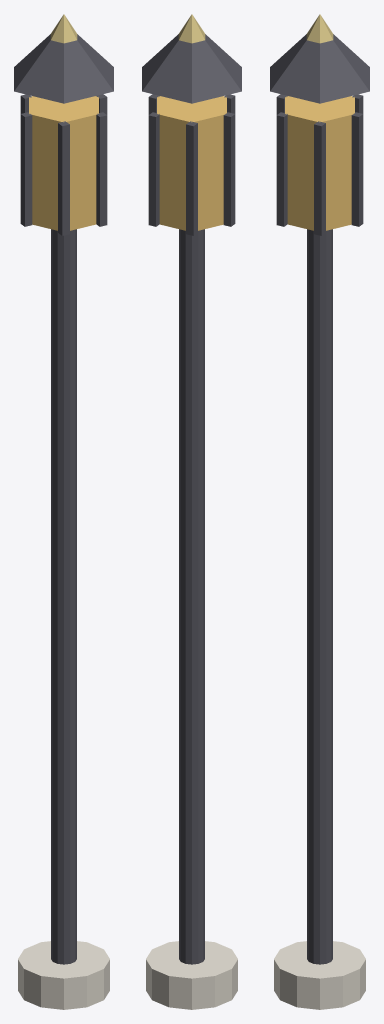
The model's file is mdl_urban_lamppost_colonial_001.glb.
3 views of the same model, side by side, from view 1: azimuth 30°, elevation 25°; view 2: azimuth 150°, elevation 25°; view 3: azimuth 330°, elevation 25° (orthographic).
Visible parts, largest first — view 1: m_carbon, m_ambar, m_caliza, m_oro_viejo; view 2: m_carbon, m_ambar, m_caliza, m_oro_viejo; view 3: m_carbon, m_ambar, m_caliza, m_oro_viejo.
Part boxes in pixels (bbox=[...]): m_carbon: bbox=[14, 34, 113, 964]; m_ambar: bbox=[29, 96, 98, 230]; m_caliza: bbox=[18, 941, 109, 1009]; m_oro_viejo: bbox=[50, 14, 77, 43]; m_carbon: bbox=[142, 34, 241, 964]; m_ambar: bbox=[157, 96, 226, 230]; m_caliza: bbox=[146, 941, 237, 1009]; m_oro_viejo: bbox=[178, 14, 205, 43]; m_carbon: bbox=[270, 34, 369, 964]; m_ambar: bbox=[285, 96, 354, 230]; m_caliza: bbox=[274, 941, 365, 1009]; m_oro_viejo: bbox=[306, 14, 333, 43].
Size of the model in its own units: 0.4 by 3.74 by 0.3464.
